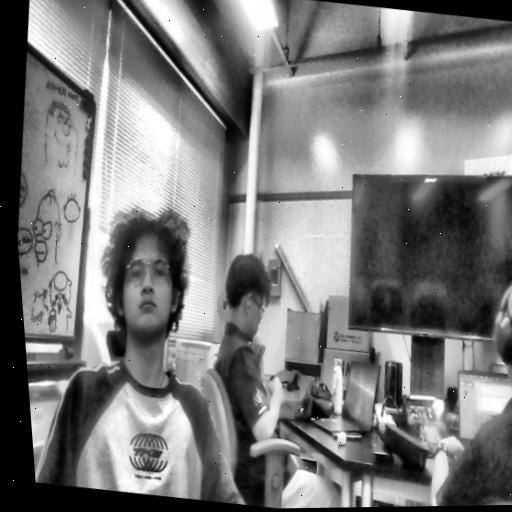Daifuku: (85, 204, 201, 346)
Not Daifuku: (210, 248, 276, 348), (479, 271, 512, 396)
